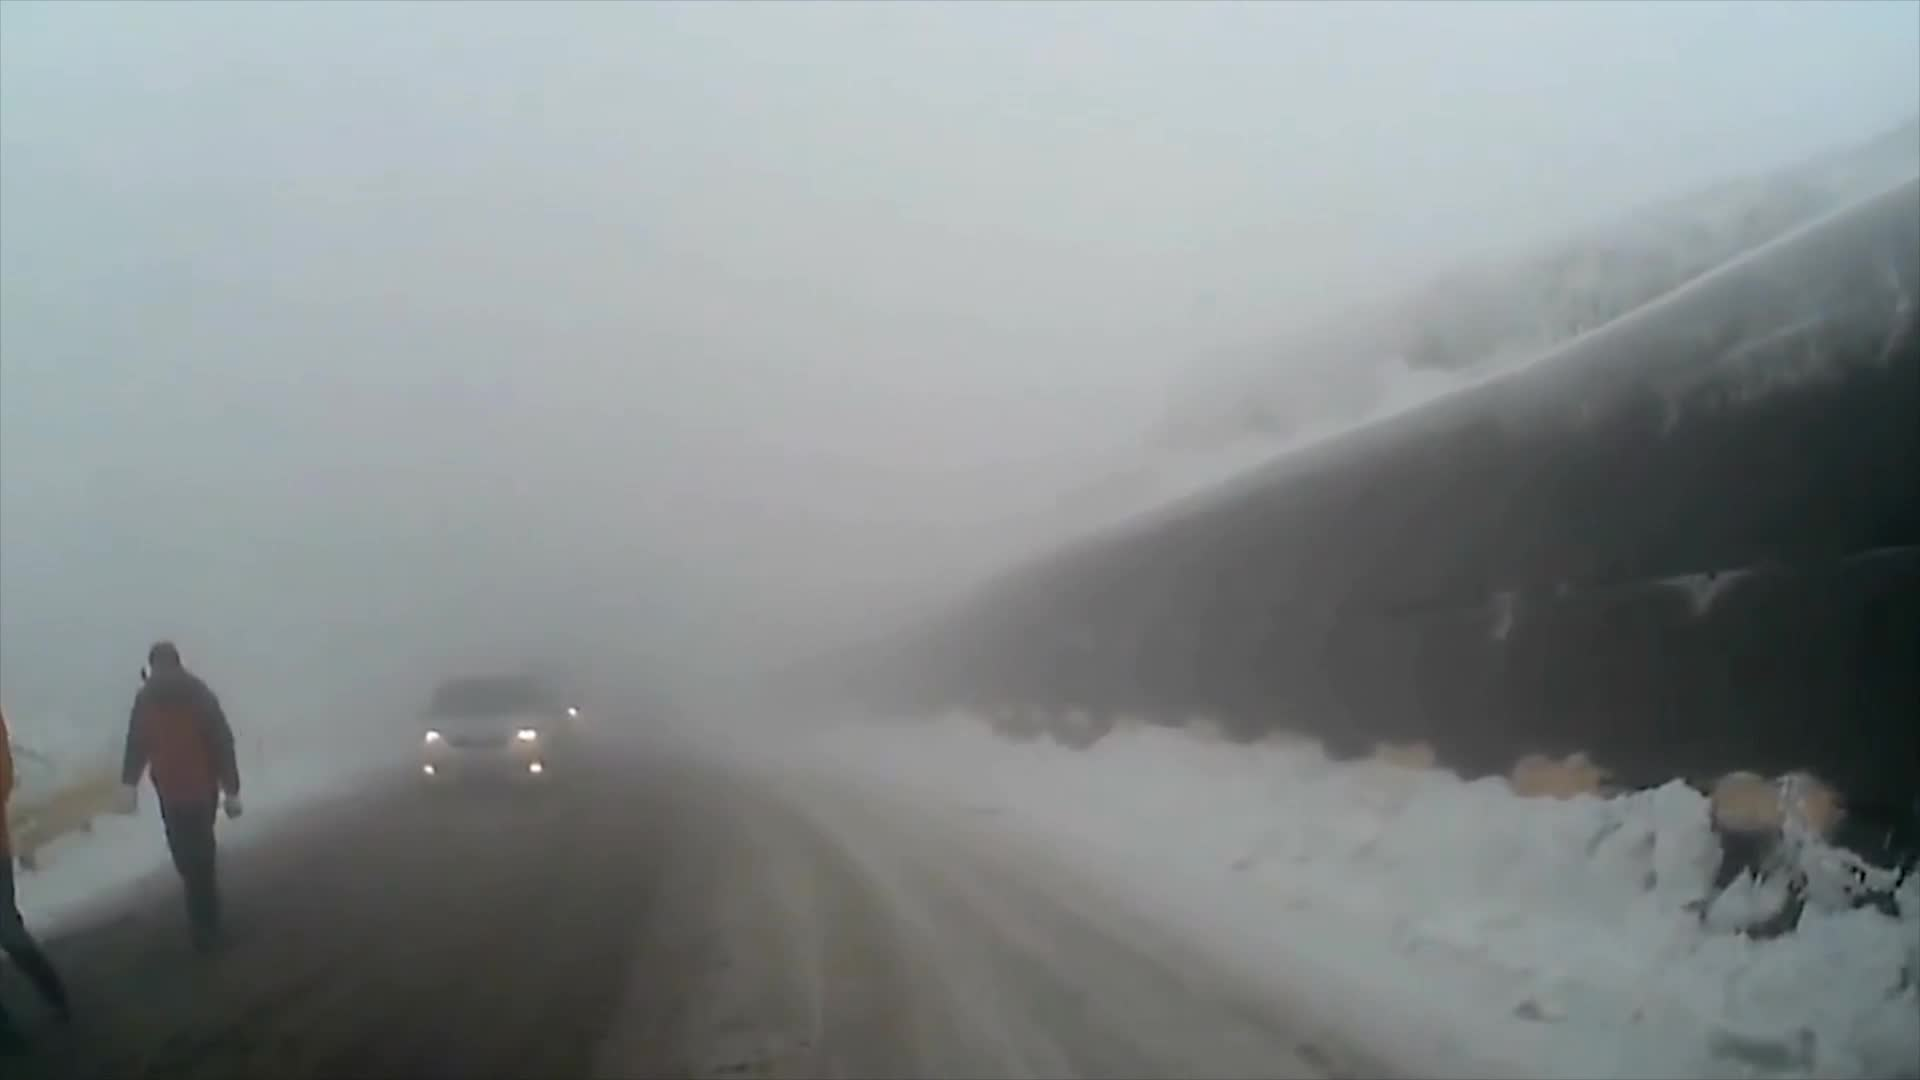pedestrian: (128, 636, 250, 929), (1, 643, 81, 1033)
vehicle: (409, 669, 565, 799)
